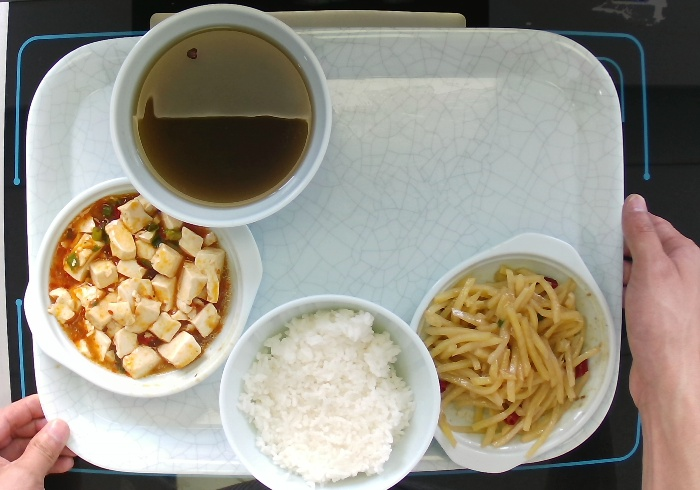JYsf-Fan_Wan: (107, 2, 334, 229), (217, 291, 442, 490)
JYsf-Shuang_Er_Pan: (22, 175, 265, 399), (409, 230, 619, 474)
